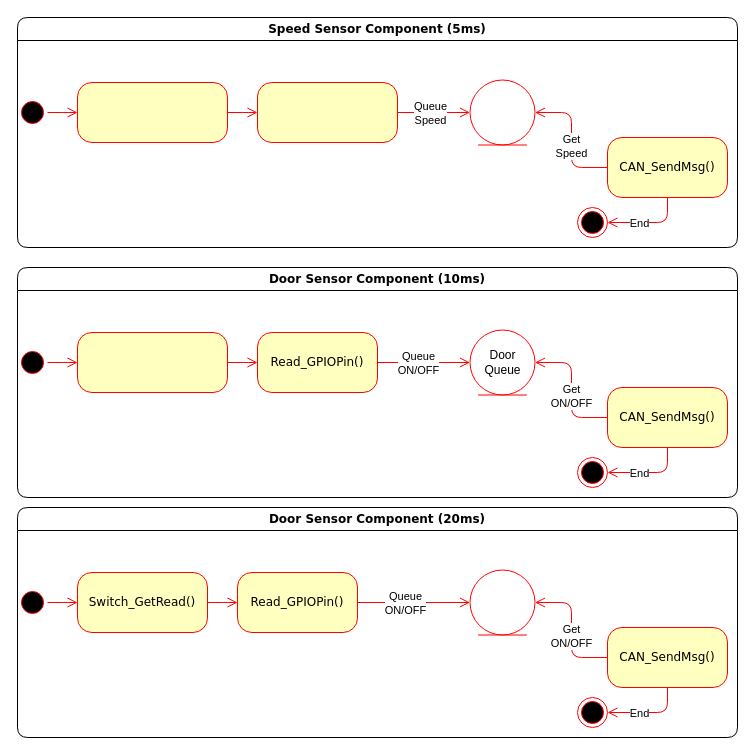
This 755x755 diagram has some shape labels left out. The centre of each missing label's shape, as x and y in pixels:
ADC_GetAbalogRead(): the point at 327,112
DoorSensor_GetRead(): the point at 152,362
Speed Queue: the point at 502,112
SpeedSensor_GetRead(): the point at 152,112
Switch Queue: the point at 502,602
